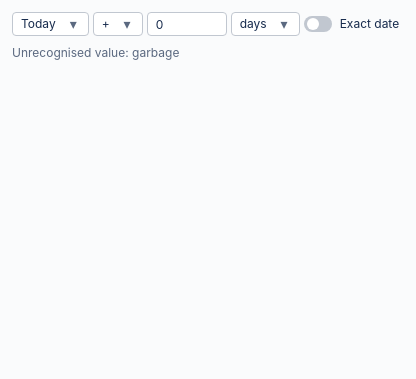
it: RelativeDateInput — value handling › after an unrecognised value in point mode, re-picking the shown default commits it
Click the dropdown named "Anchor".
click(50, 24)  # box [12,12,89,36]
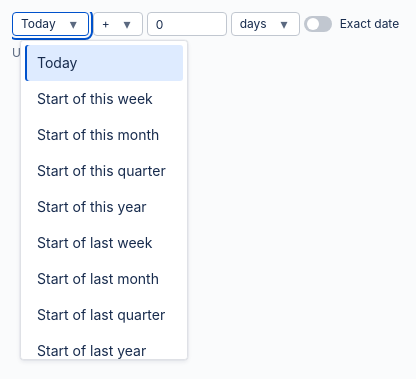
Click the option "Today".
click(104, 63)  # box [25,45,183,81]
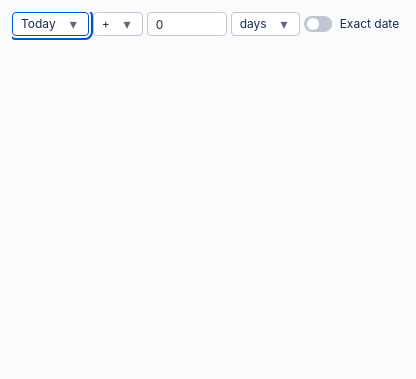
expect the text "Unrecognised" is gone: met
